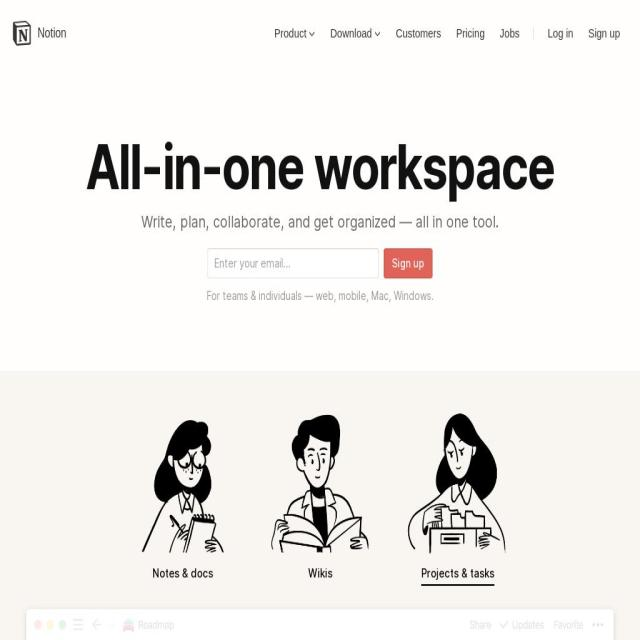button: (251, 403, 389, 592), (114, 403, 251, 592), (389, 403, 526, 592), (323, 21, 388, 46), (388, 21, 449, 46), (12, 21, 67, 46), (267, 21, 322, 46), (580, 21, 628, 46), (448, 21, 493, 46), (540, 21, 581, 46), (492, 21, 527, 46)
field: (214, 252, 372, 274)
heading: (86, 133, 554, 201), (141, 209, 499, 234)
image: (26, 608, 614, 640), (126, 404, 239, 554), (401, 404, 514, 554), (264, 404, 376, 554), (13, 21, 32, 46), (308, 29, 316, 38), (374, 29, 382, 38)
text: (206, 286, 434, 304), (420, 563, 494, 586), (383, 248, 432, 278), (390, 21, 448, 46), (152, 563, 213, 586), (582, 21, 626, 46), (449, 21, 492, 46), (541, 21, 580, 46), (493, 21, 526, 46), (330, 24, 372, 43), (274, 24, 307, 43), (37, 24, 67, 44), (308, 563, 332, 586)
